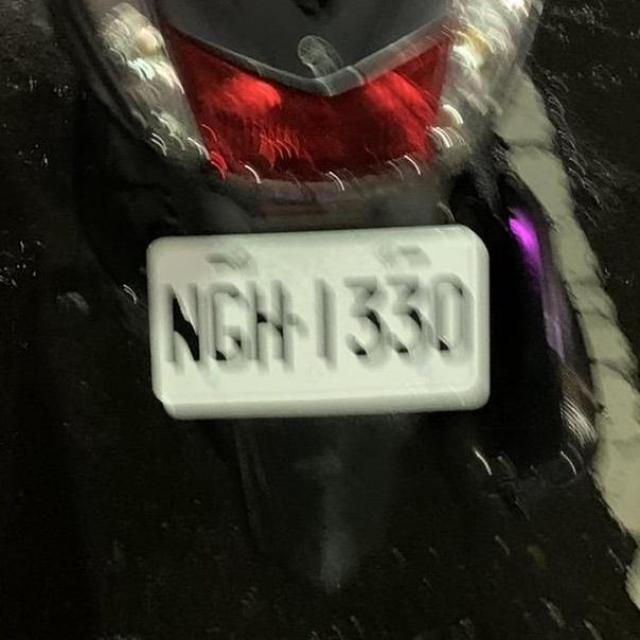W: (144, 222, 494, 422)
